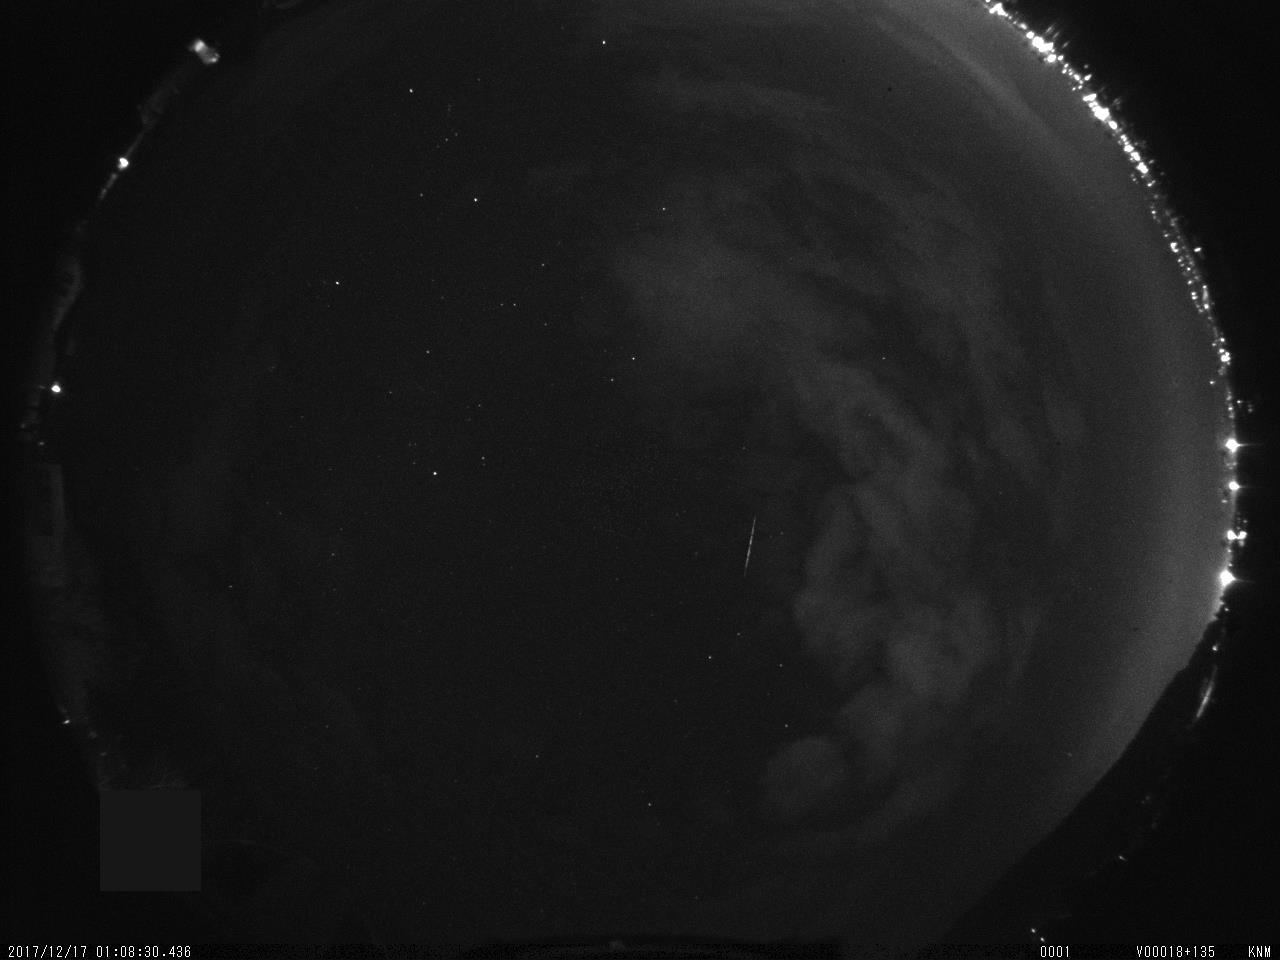meteor: (730, 492, 778, 591)
